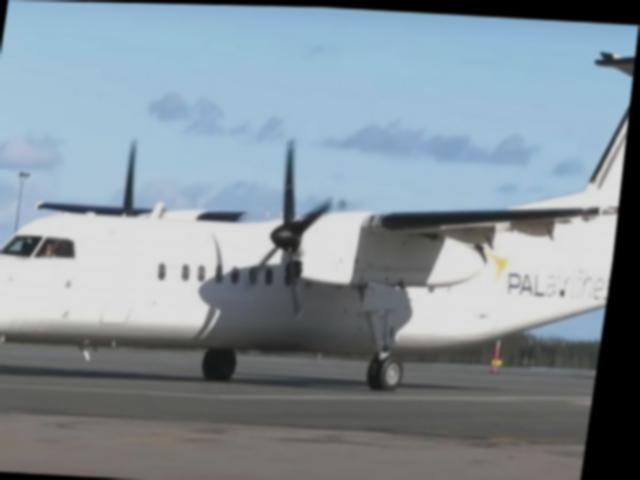iha: (0, 11, 639, 387)
